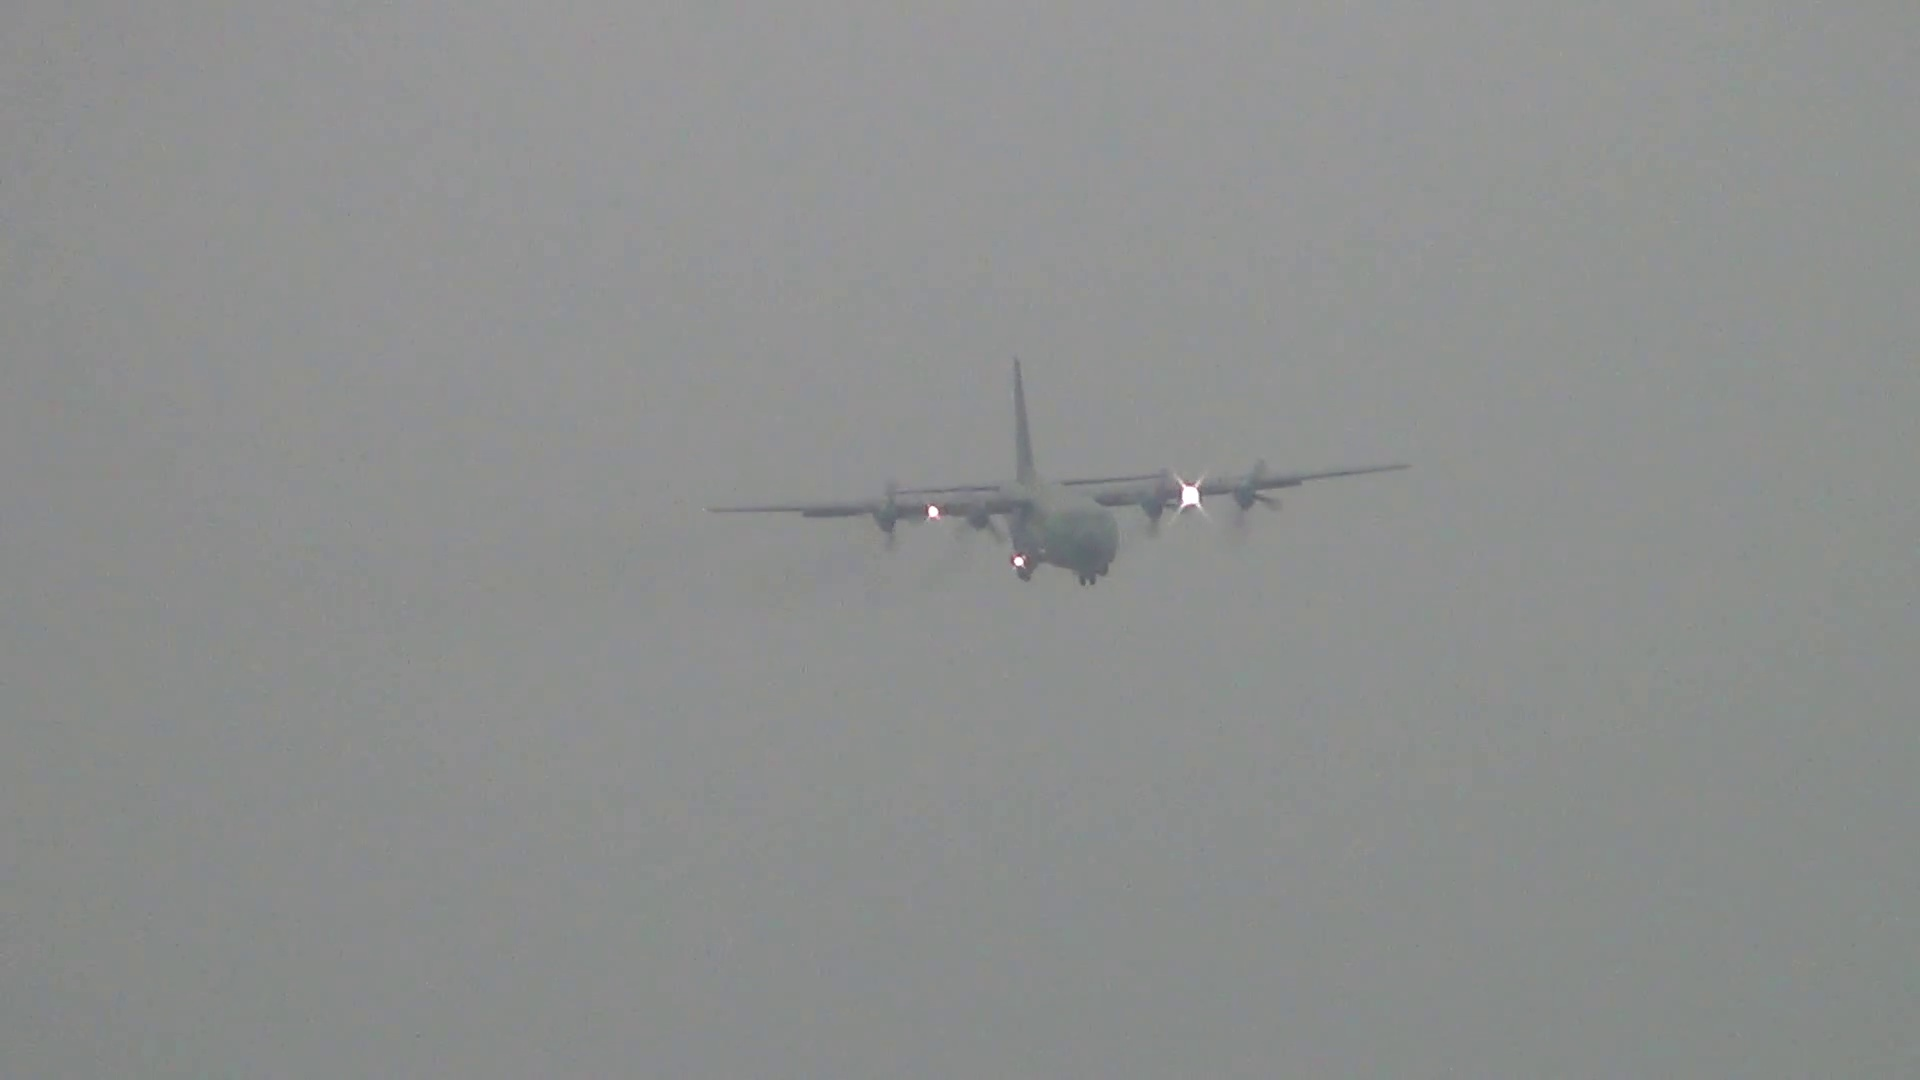Airplane: (702, 363, 1414, 588)
